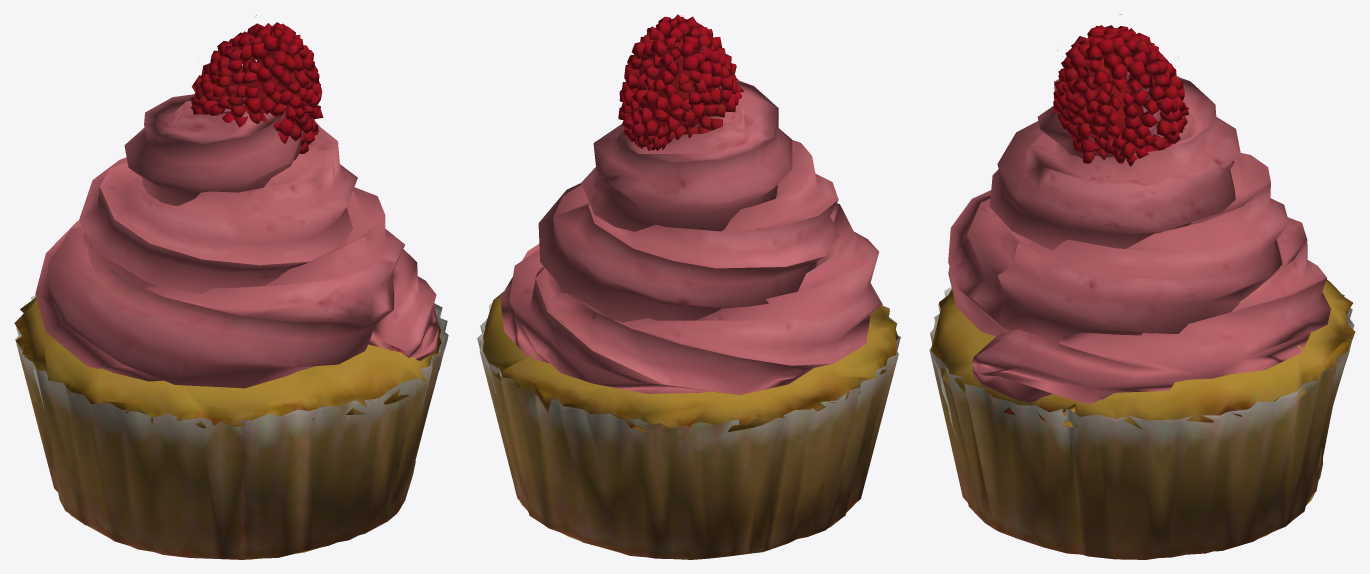
The model's file is food_prepared_cupcake_a01.glb.
3 views of the same model, side by side, from view 1: azimuth 30°, elevation 25°; view 2: azimuth 150°, elevation 25°; view 3: azimuth 270°, elevation 25° (orthographic). The views are drawn at different scales.
Parts seen in each view (by area): view 1: part0; view 2: part0; view 3: part0.
Part boxes in pixels (x1,y1,x2,y2): part0: [14, 15, 448, 559]; part0: [477, 14, 900, 559]; part0: [929, 14, 1355, 559].
Bounding box in the file's own units: 0.067 × 0.0808 × 0.065.
Materials: 1 (1 with a texture image).
